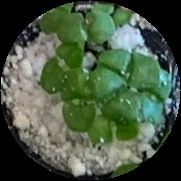Basil: (91, 62, 131, 126), (99, 48, 159, 81), (40, 44, 81, 92), (62, 68, 93, 131), (134, 71, 171, 122), (60, 13, 111, 46), (88, 113, 138, 146), (40, 1, 71, 33), (90, 2, 131, 26)
